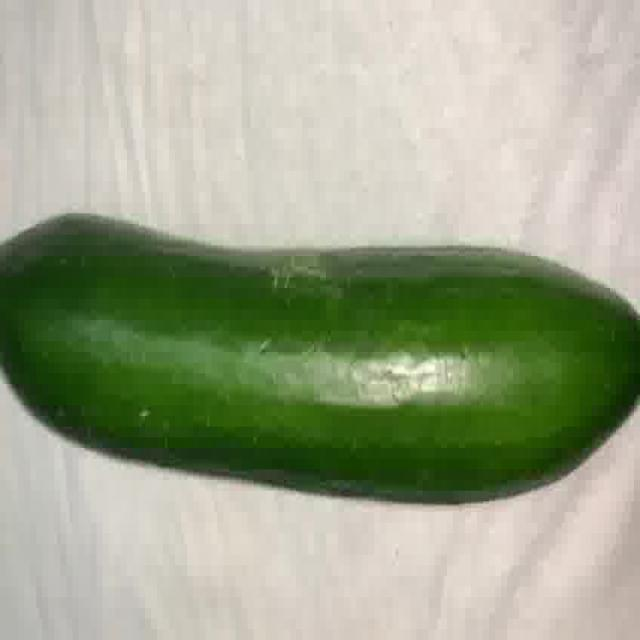Cucumber: (0, 213, 640, 509)
